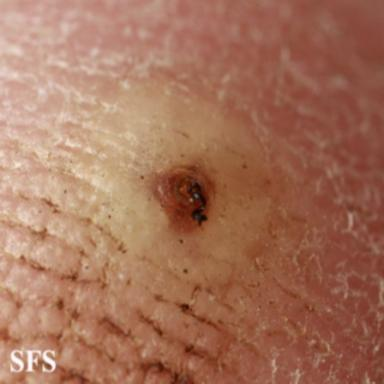Tungiasis: (74, 80, 273, 285)
